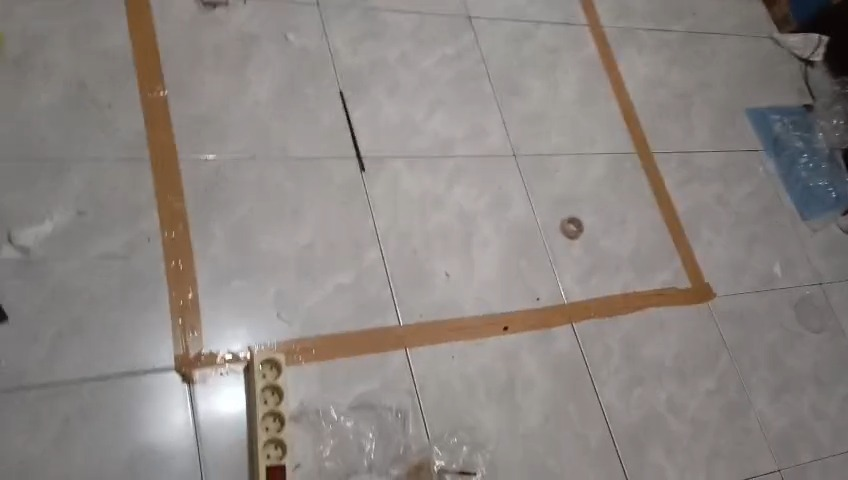floor marking: (125, 0, 715, 382)
